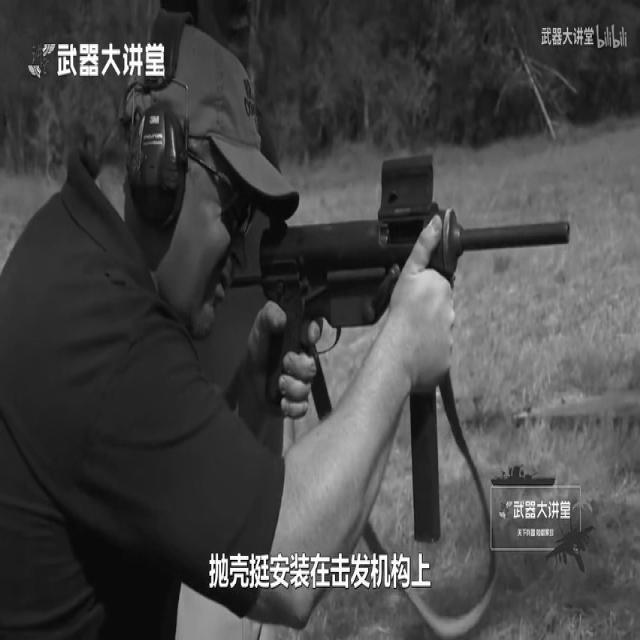Sub-machine-gun: (194, 105, 614, 581)
